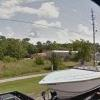Boat: (34, 56, 100, 100)
